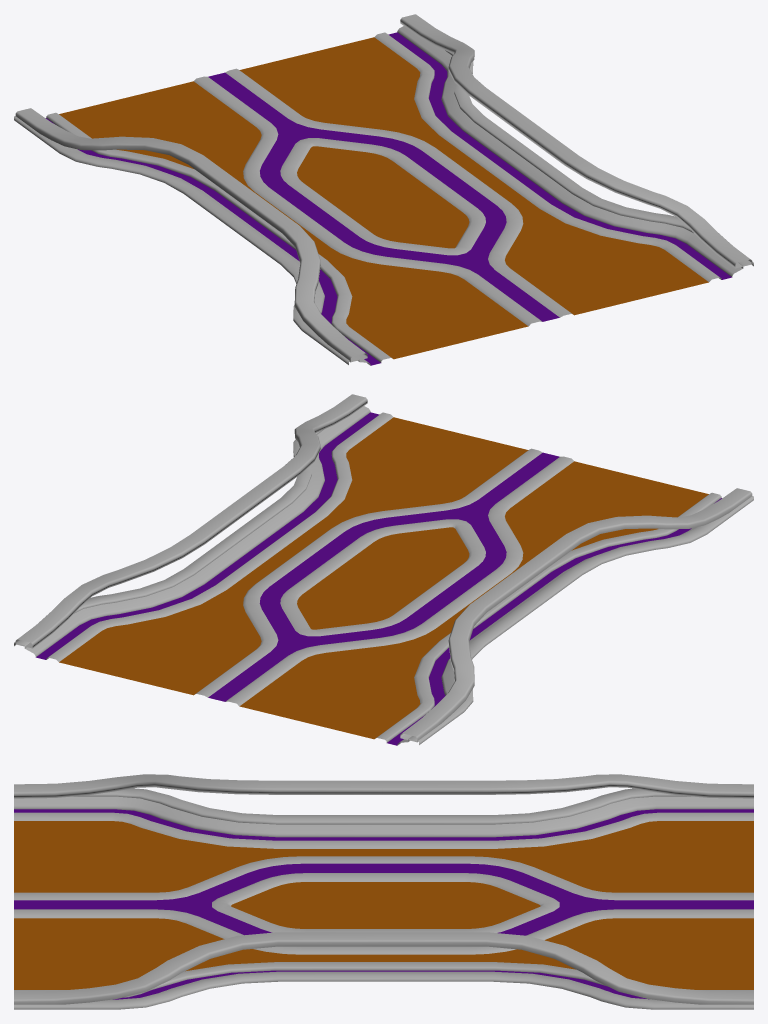
File: CouloirPath2.fbx
3 views of the same model, one above another, from view 1: azimuth 30°, elevation 25°; view 2: azimuth 150°, elevation 25°; view 3: azimuth 270°, elevation 25° (orthographic). The views are drawn at different scales.
Visible parts, largest first — view 1: CouloirPath2_low; view 2: CouloirPath2_low; view 3: CouloirPath2_low.
Part boxes in pixels (bbox=[...]): CouloirPath2_low: bbox=[14, 14, 753, 365]; CouloirPath2_low: bbox=[14, 394, 753, 745]; CouloirPath2_low: bbox=[14, 774, 753, 1009].
Bounding box in the file's own units: 13.7 × 1.37 × 19.63.
